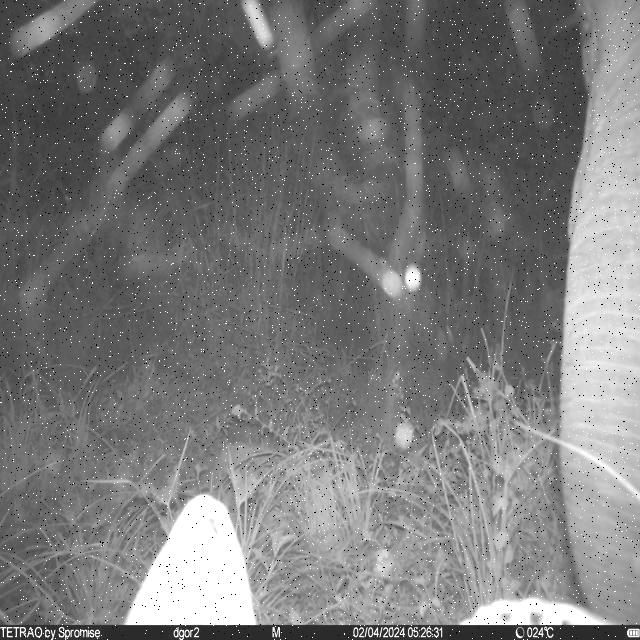elephant: (556, 0, 640, 625)
